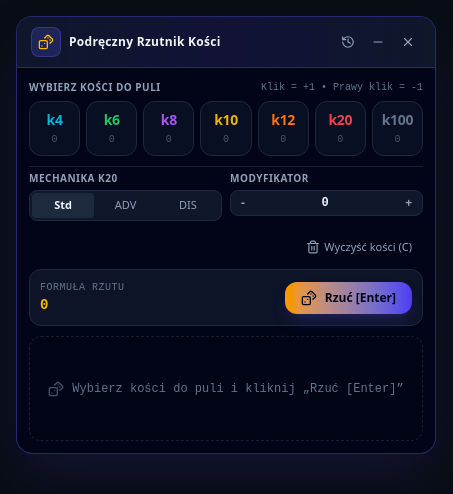
Scenario: DraggableDiceTray Component › adjusts numeric modifier stepper
Step 1. Click the button with test id "modifier-plus-btn" → (409, 203), box [395, 191, 422, 215]
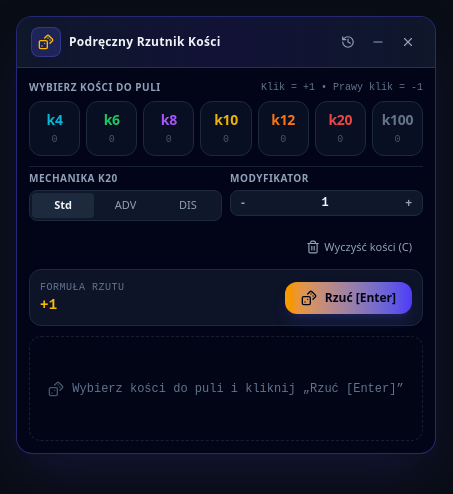
Step 2. Click the button with test id "modifier-plus-btn" → (409, 203), box [395, 191, 422, 215]
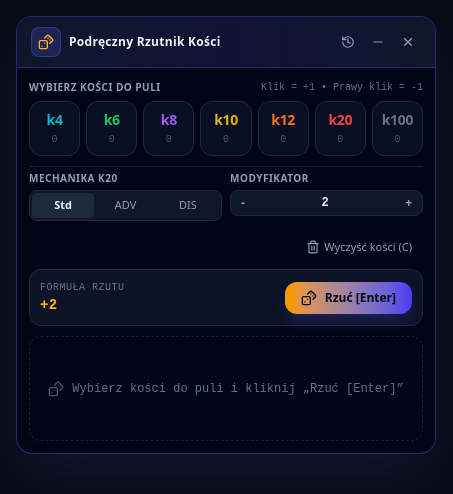
expect the number field with test id "modifier-input" holds "2": met, box [255, 195, 395, 211]
Step 3. Click the button with test id "modifier-minus-btn" → (243, 203), box [231, 191, 255, 215]
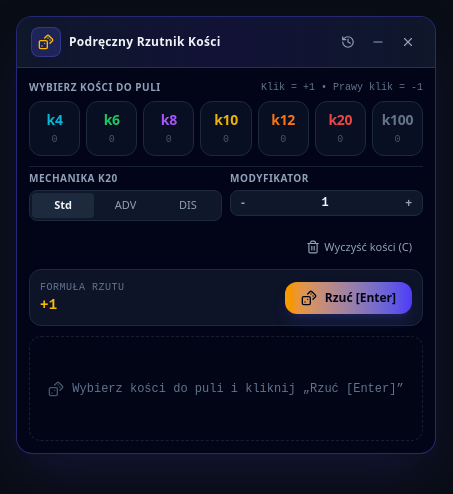
Step 4. Click the button with test id "modifier-minus-btn" → (243, 203), box [231, 191, 255, 215]
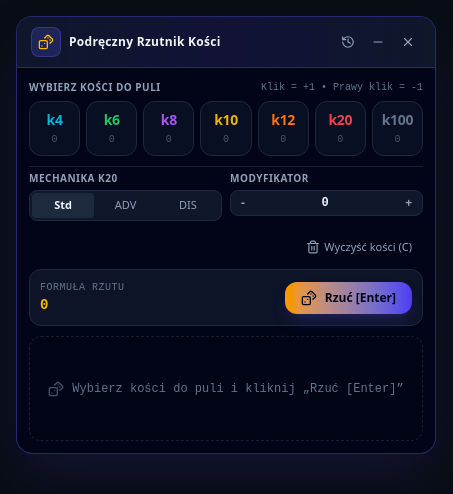
Step 5. Click the button with test id "modifier-minus-btn" → (243, 203), box [231, 191, 255, 215]
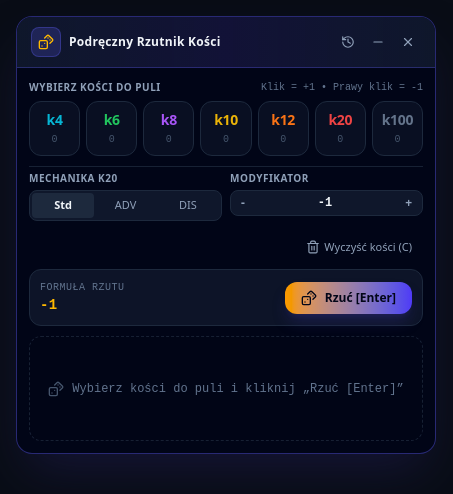
expect the number field with test id "modifier-input" holds "-1": met, box [255, 195, 395, 211]
